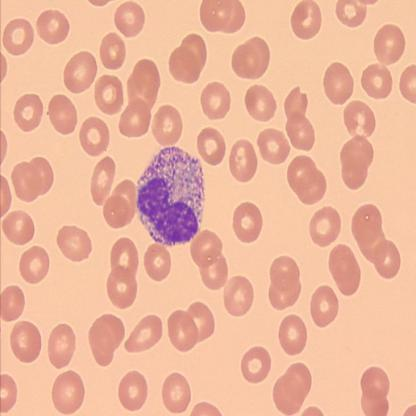Metamyelocyte: (134, 143, 208, 248)
